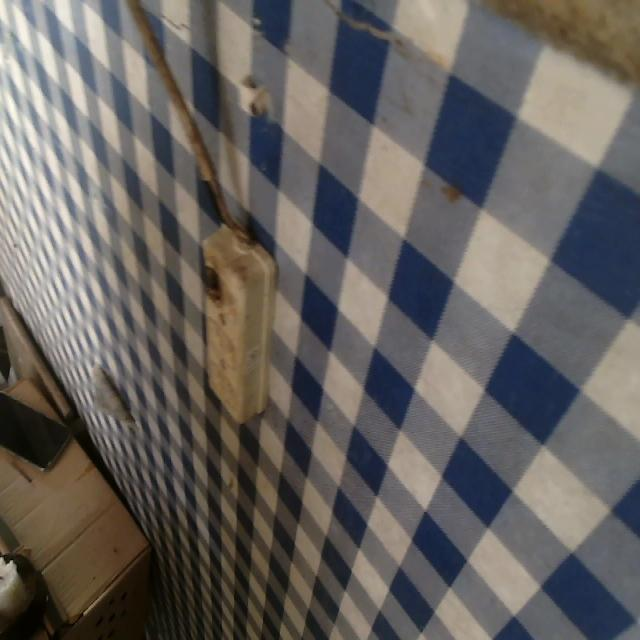-: (199, 256, 224, 309)
